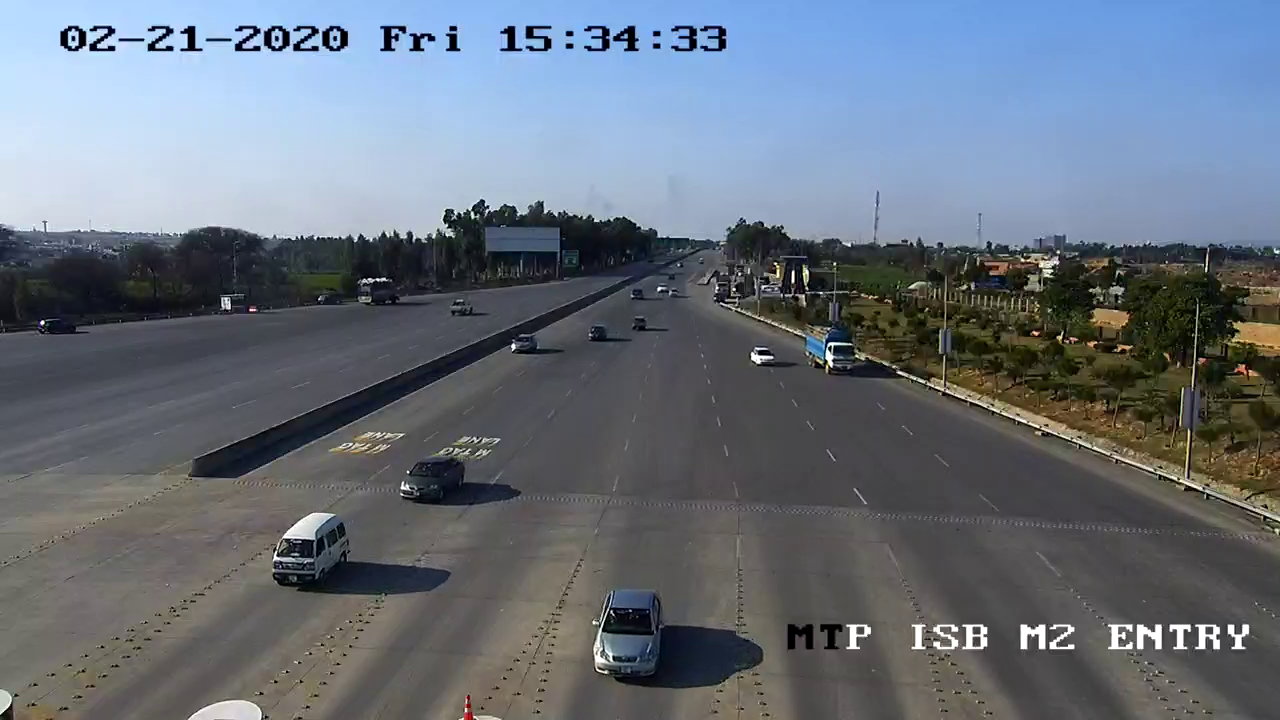f1: (577, 579, 674, 688), (257, 505, 357, 598), (386, 443, 482, 511)
